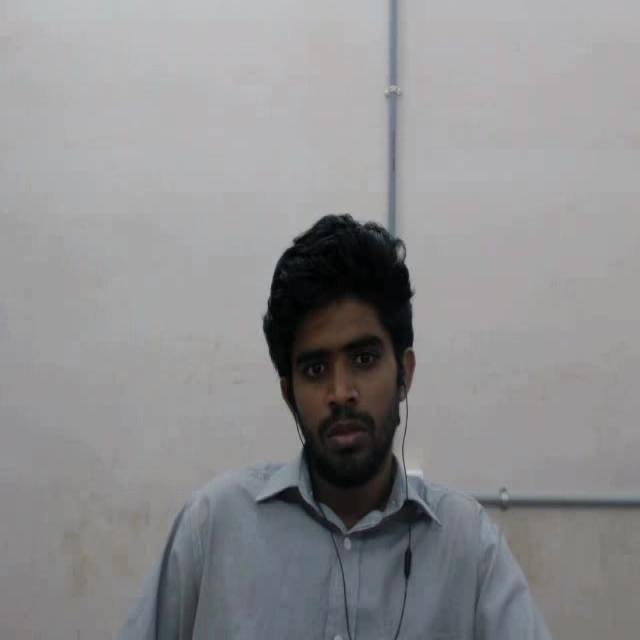Engaged: (237, 201, 460, 522)
